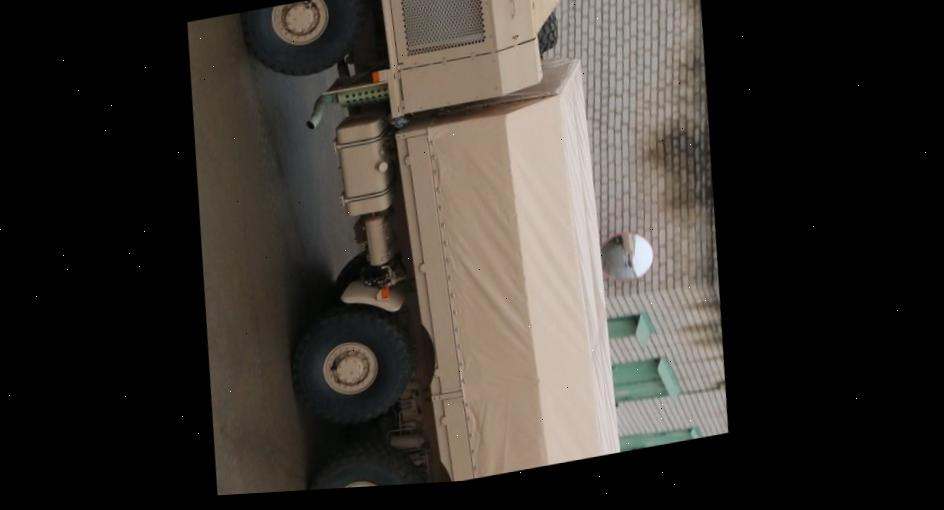truck: (214, 0, 653, 496)
